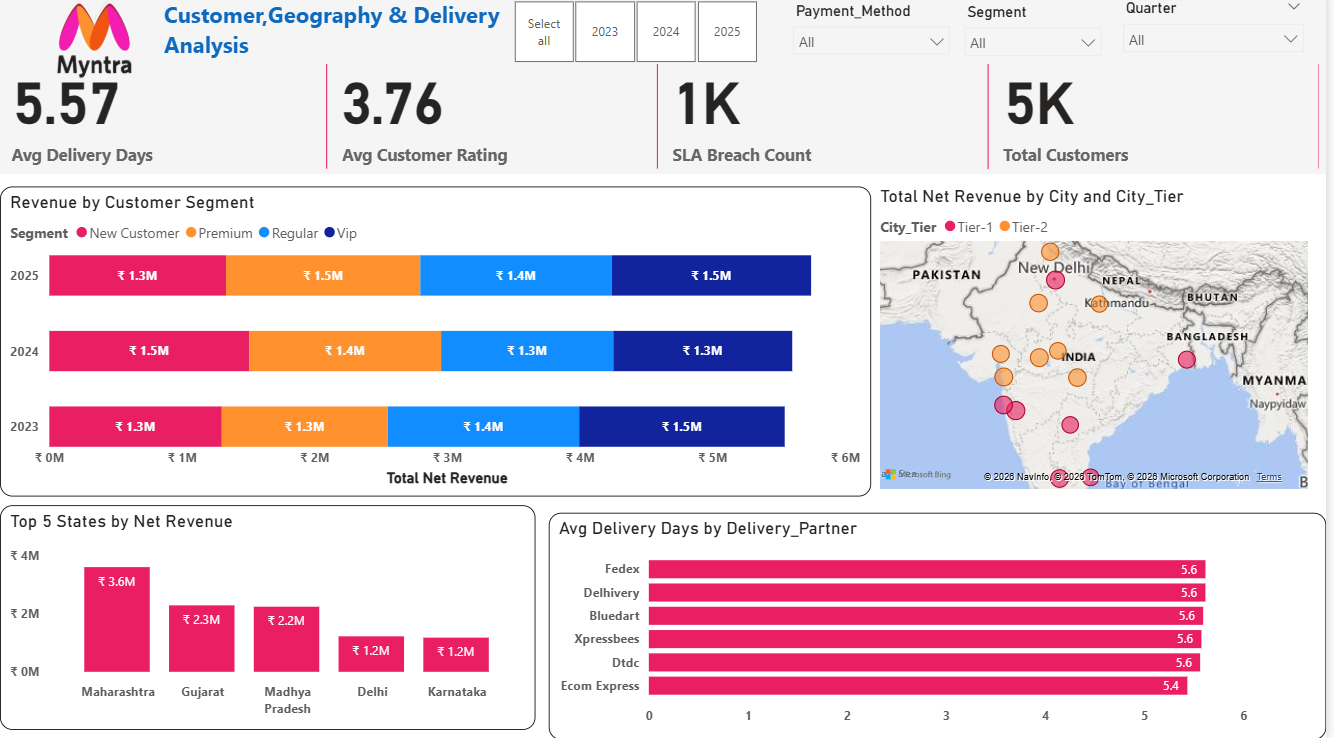

What the dashboard file says about the page in this screenshot:
{"tool":"powerbi","page":{"name":"Customer & Logistics","canvas":[1280,720],"ordinal":2},"visuals":[{"type":"shape","box":[0,185.4,1280.3,534.6],"z":0},{"type":"textbox","box":[153.7,0,340.3,72.7],"z":1000},{"type":"image","box":[0,0,185,86.7],"z":2000},{"type":"slicer","fields":{"Values":["Date_Table.Year"]},"box":[470.7,0,284,72.7],"z":3000},{"type":"cardVisual","fields":{"Data":["measure3.Avg Delivery Days","measure3.Avg Customer Rating","measure3.SLA Breach Count","measure3.Total Customers"]},"box":[0,72.7,1280.3,111.1],"z":4000},{"type":"barChart","title":"Revenue by Customer Segment","fields":{"Category":["Date_Table.Year"],"Series":["dim_customer.Segment"],"Y":["sales_measures.Total Net Revenue"]},"box":[0,185.2,841.2,299.1],"z":5000},{"type":"map","fields":{"Category":["dim_customer.City"],"Size":["sales_measures.Total Net Revenue"],"Series":["dim_customer.City_Tier"]},"box":[844.3,184.3,422.9,298.6],"z":6000},{"type":"clusteredColumnChart","title":"Top 5 States by Net Revenue","fields":{"Y":["sales_measures.Total Net Revenue"],"Category":["dim_customer.State"]},"box":[0,492.9,517.1,217.1],"z":7000},{"type":"barChart","fields":{"Category":["fact_sales.Delivery_Partner"],"Y":["measure3.Avg Delivery Days"]},"box":[529.7,500.9,750.6,219.6],"z":8000},{"type":"slicer","fields":{"Values":["fact_sales.Payment_Method"]},"box":[754.7,2.7,171.5,70],"z":9000},{"type":"slicer","fields":{"Values":["dim_customer.Segment"]},"box":[920.8,4.1,152.3,70],"z":10000},{"type":"slicer","fields":{"Values":["Date_Table.Quarter"]},"box":[1073.4,0,194.4,72.2],"z":11000}]}

Visuals, with their boxes in screenshot pixels (x1, y1, x2, y2), scaled from the page's 1280x720 canvas onto the 1334x738 screenshot:
shape: <region>0, 190, 1333, 737</region>
textbox: <region>160, 0, 515, 75</region>
image: <region>0, 0, 193, 89</region>
slicer - Date_Table.Year: <region>491, 0, 787, 75</region>
cardVisual - measure3.Avg Delivery Days x measure3.Avg Customer Rating: <region>0, 75, 1333, 188</region>
"Revenue by Customer Segment" barChart: <region>0, 190, 877, 496</region>
map - dim_customer.City x sales_measures.Total Net Revenue: <region>880, 189, 1321, 495</region>
"Top 5 States by Net Revenue" clusteredColumnChart: <region>0, 505, 539, 728</region>
barChart - fact_sales.Delivery_Partner x measure3.Avg Delivery Days: <region>552, 513, 1333, 737</region>
slicer - fact_sales.Payment_Method: <region>787, 3, 965, 75</region>
slicer - dim_customer.Segment: <region>960, 4, 1118, 76</region>
slicer - Date_Table.Quarter: <region>1119, 0, 1321, 74</region>
